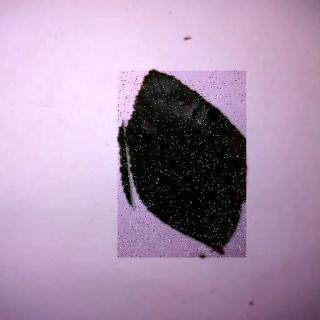Bird Eye Spot: (119, 72, 248, 259)
